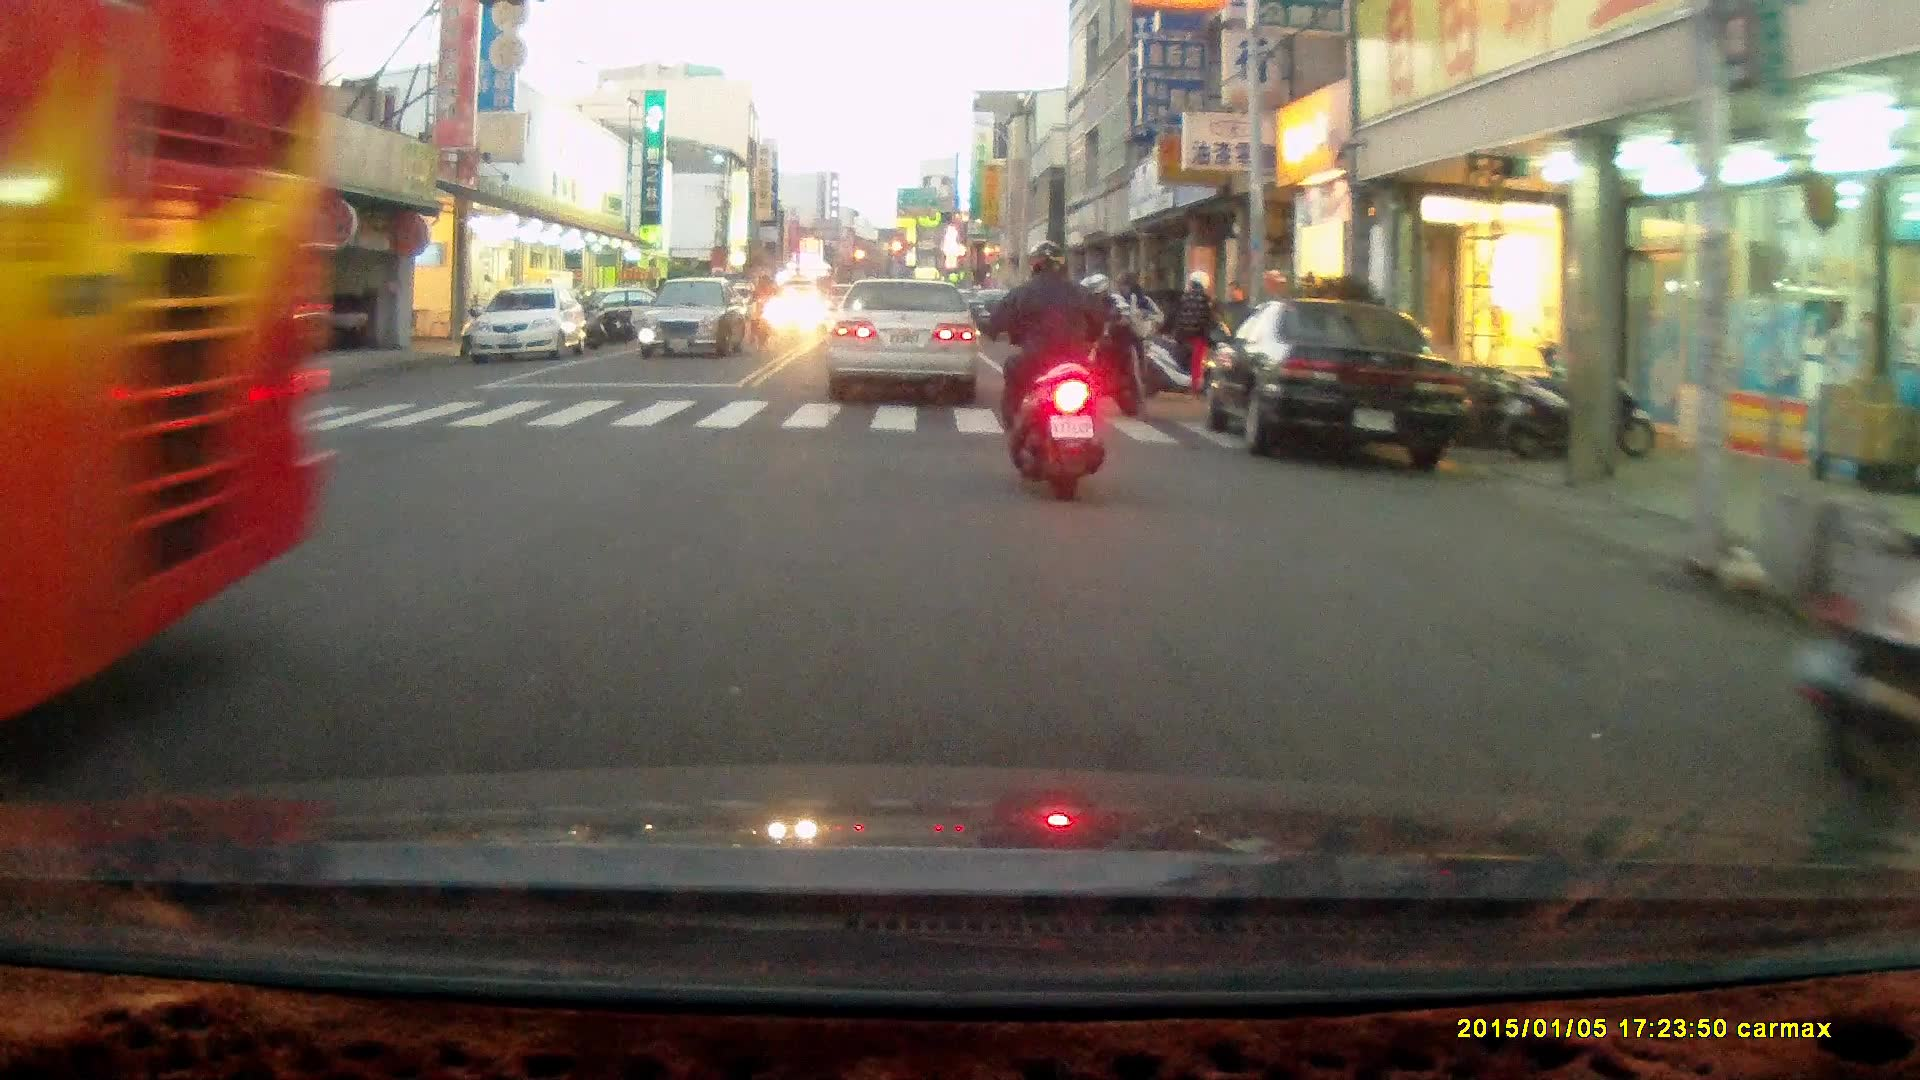pedestrian: (1179, 267, 1220, 404)
rider: (985, 239, 1110, 503), (1059, 268, 1164, 418)
vehicle: (1, 16, 344, 720), (1200, 302, 1476, 469), (833, 277, 994, 407), (466, 289, 585, 366), (644, 279, 749, 358)
